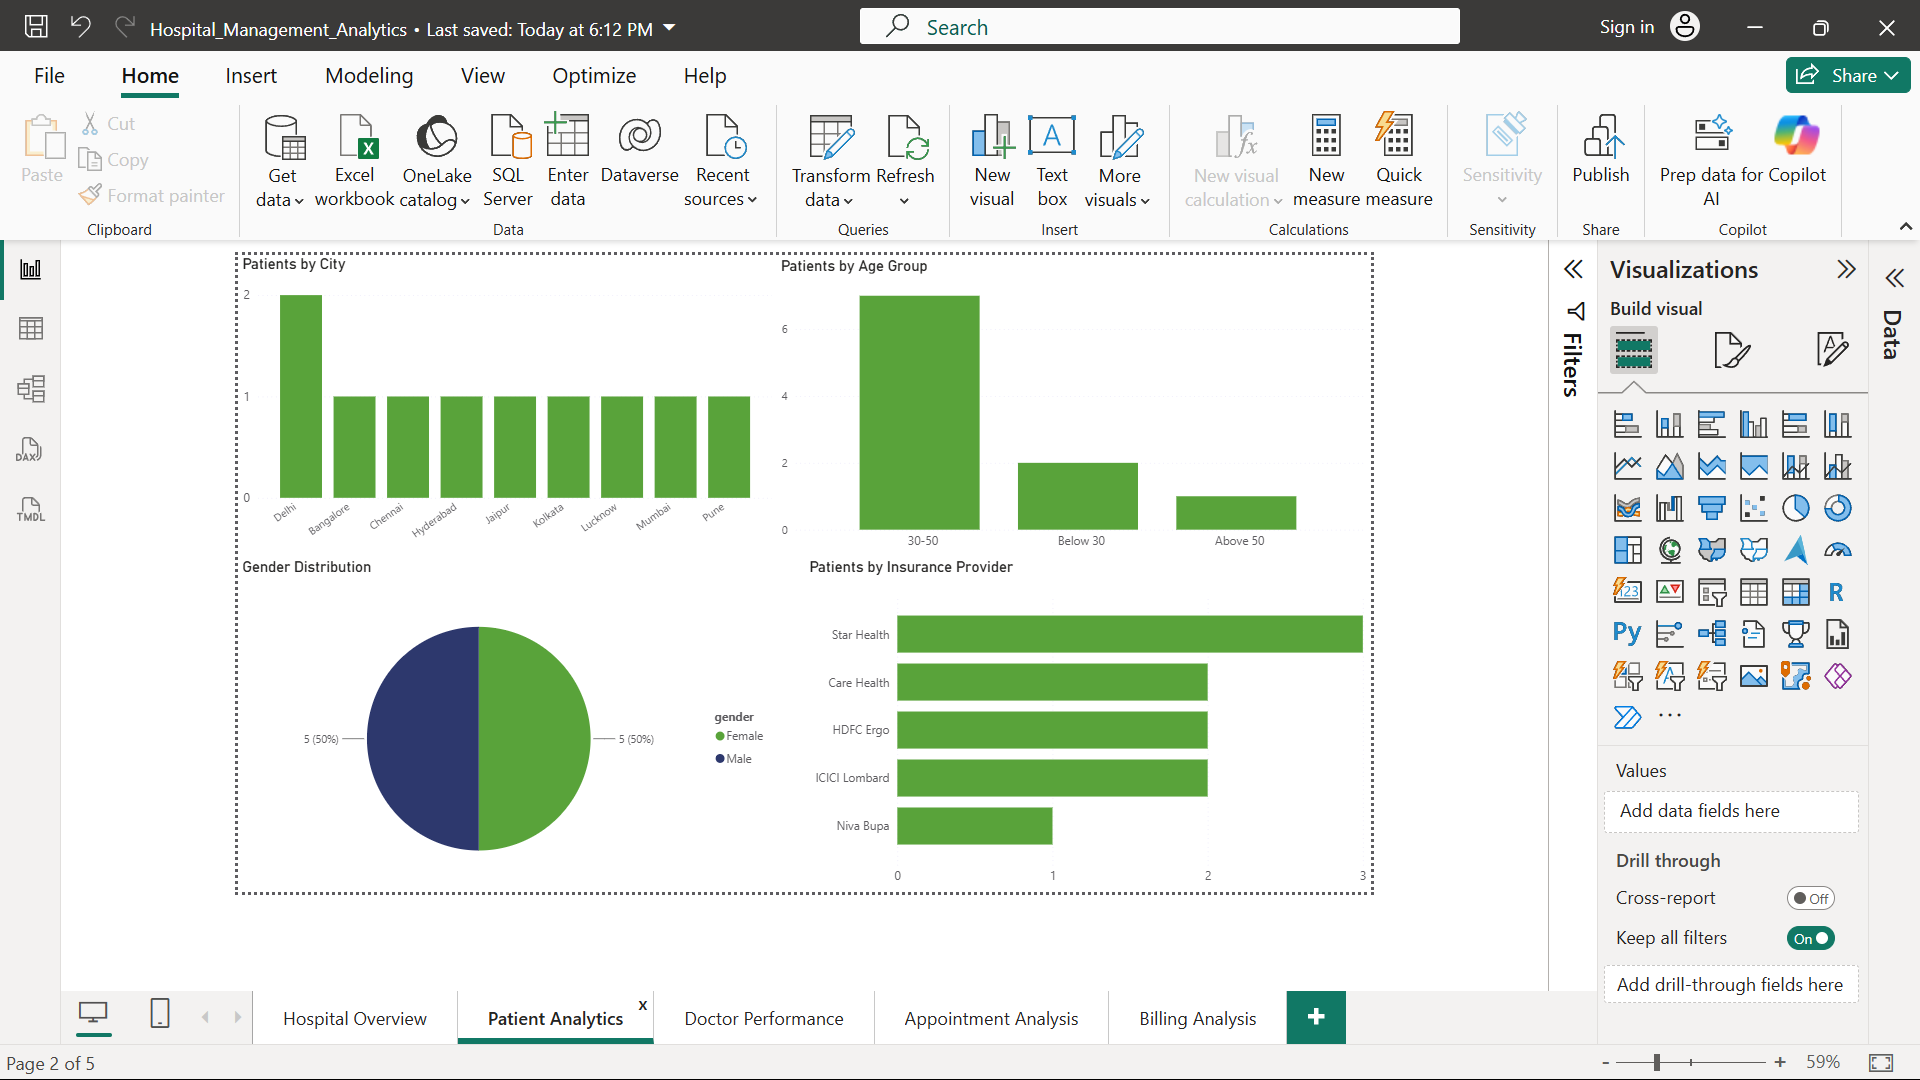

What the dashboard file says about the page in this screenshot:
{"tool":"powerbi","page":{"name":"Patient Analytics","canvas":[1280,720],"ordinal":1},"visuals":[{"type":"clusteredColumnChart","title":"Patients by City","fields":{"Category":["hospital_db patients.city"],"Y":["CountNonNull(hospital_db patients.patient_id)"]},"box":[0,0,608.5,342.4],"z":0},{"type":"pieChart","title":"Gender Distribution","fields":{"Category":["hospital_db patients.gender"],"Y":["CountNonNull(hospital_db patients.patient_id)"]},"box":[0,342.4,608.5,378],"z":1000},{"type":"clusteredBarChart","title":"Patients by Insurance Provider","fields":{"Category":["hospital_db patients.insurance_provider"],"Y":["CountNonNull(hospital_db patients.patient_id)"]},"box":[640.7,342.4,639,378],"z":2000},{"type":"clusteredColumnChart","title":"Patients by Age Group","fields":{"Category":["hospital_db patients.Age Group"],"Y":["CountNonNull(hospital_db patients.patient_id)"]},"box":[608.5,1.7,671.2,340.7],"z":3000}]}

Visuals, with their boxes on the page's 1280x720 design canvas (x1, y1, x2, y2). These are canvas units, not pixel positions in the 1920x1080 screenshot, which may show the page scaled, cropped or inside an application window:
"Patients by City" clusteredColumnChart: (0, 0, 608, 342)
"Gender Distribution" pieChart: (0, 342, 608, 720)
"Patients by Insurance Provider" clusteredBarChart: (641, 342, 1280, 720)
"Patients by Age Group" clusteredColumnChart: (608, 2, 1280, 342)
